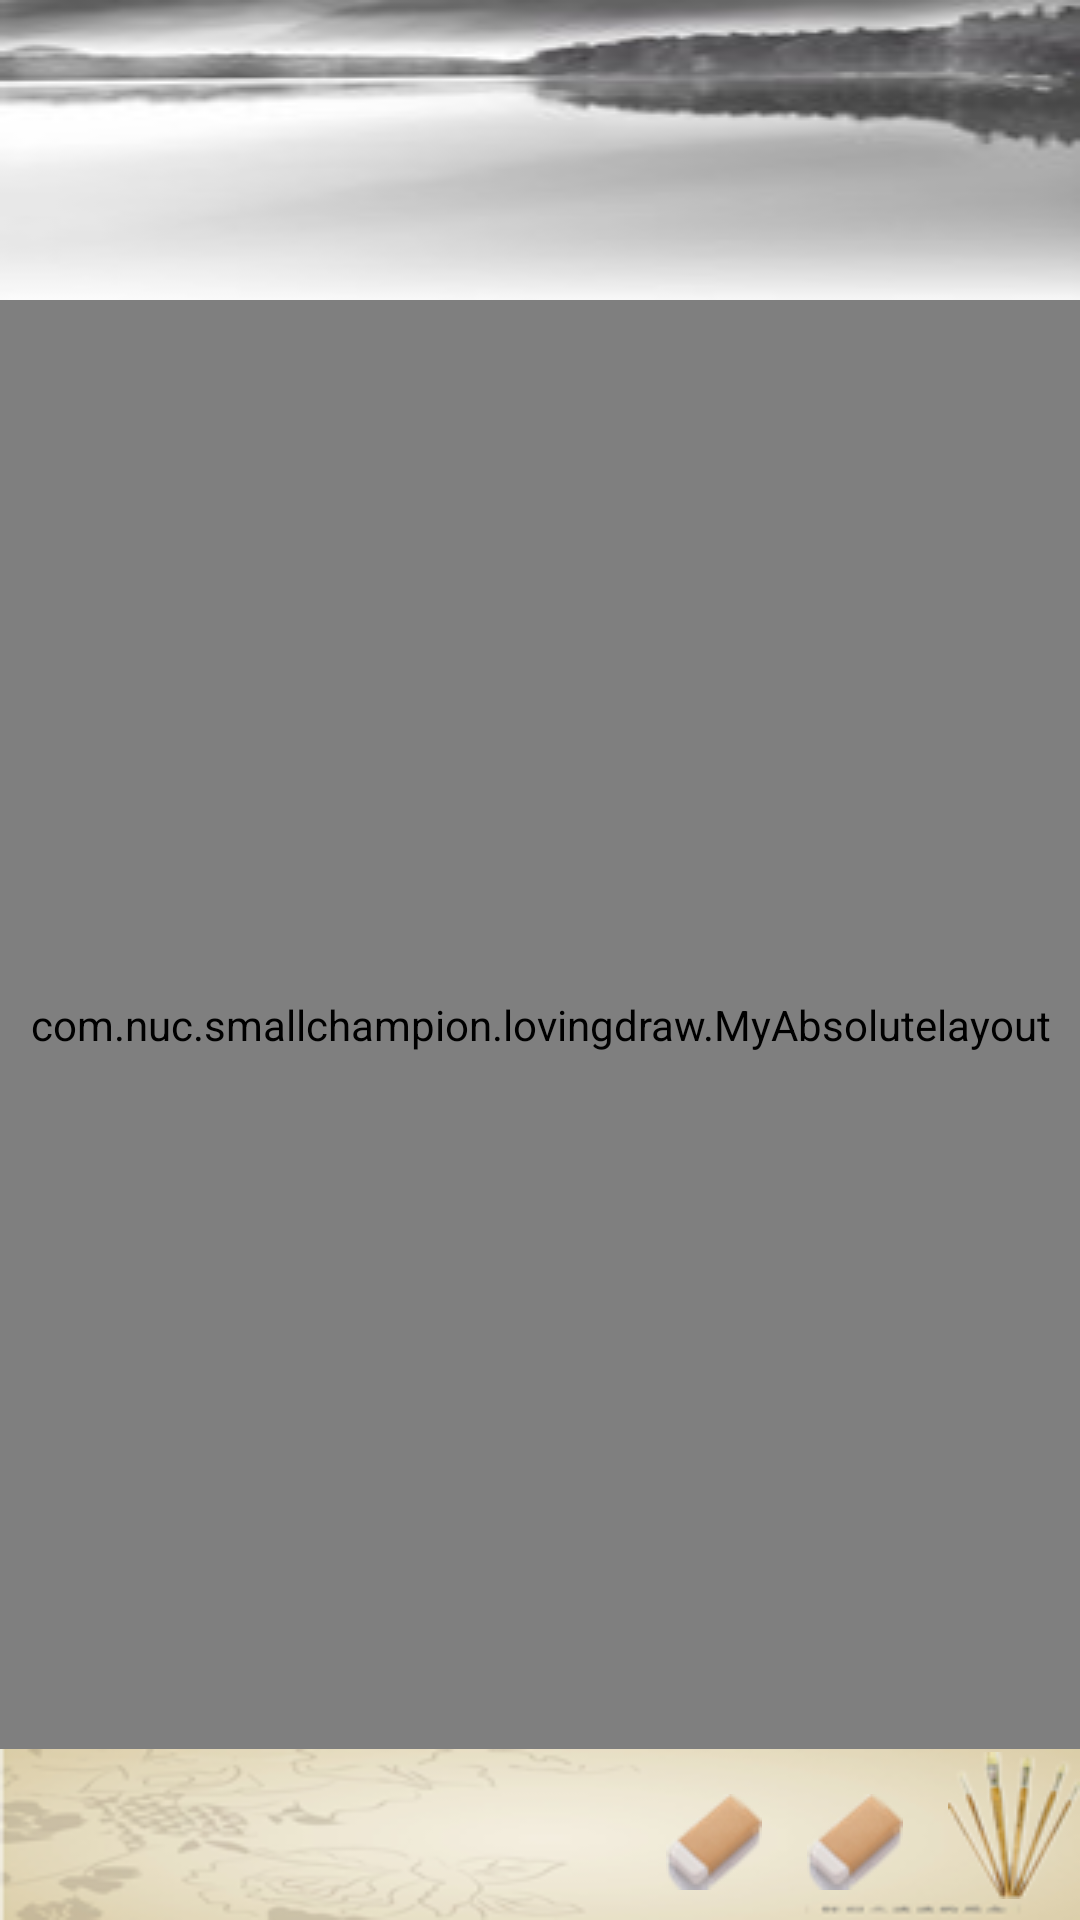

Icon bounding boxes for this 1080 × 1920 phone screenshot, format detection(x1, y1, x2, y2):
eraser: detection(669, 1794, 762, 1890), detection(810, 1796, 903, 1890)
